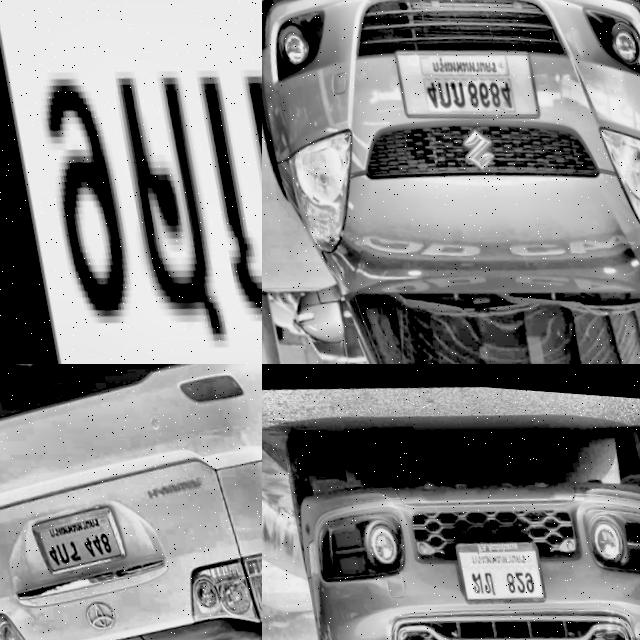license-plate: (0, 0, 262, 364), (388, 33, 538, 125), (20, 493, 122, 580), (450, 532, 544, 604)
